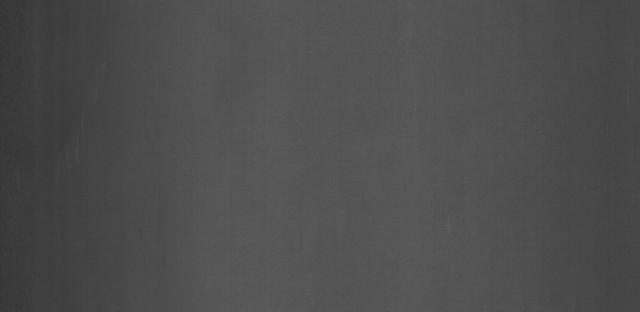silk_spot: (39, 91, 99, 192)
